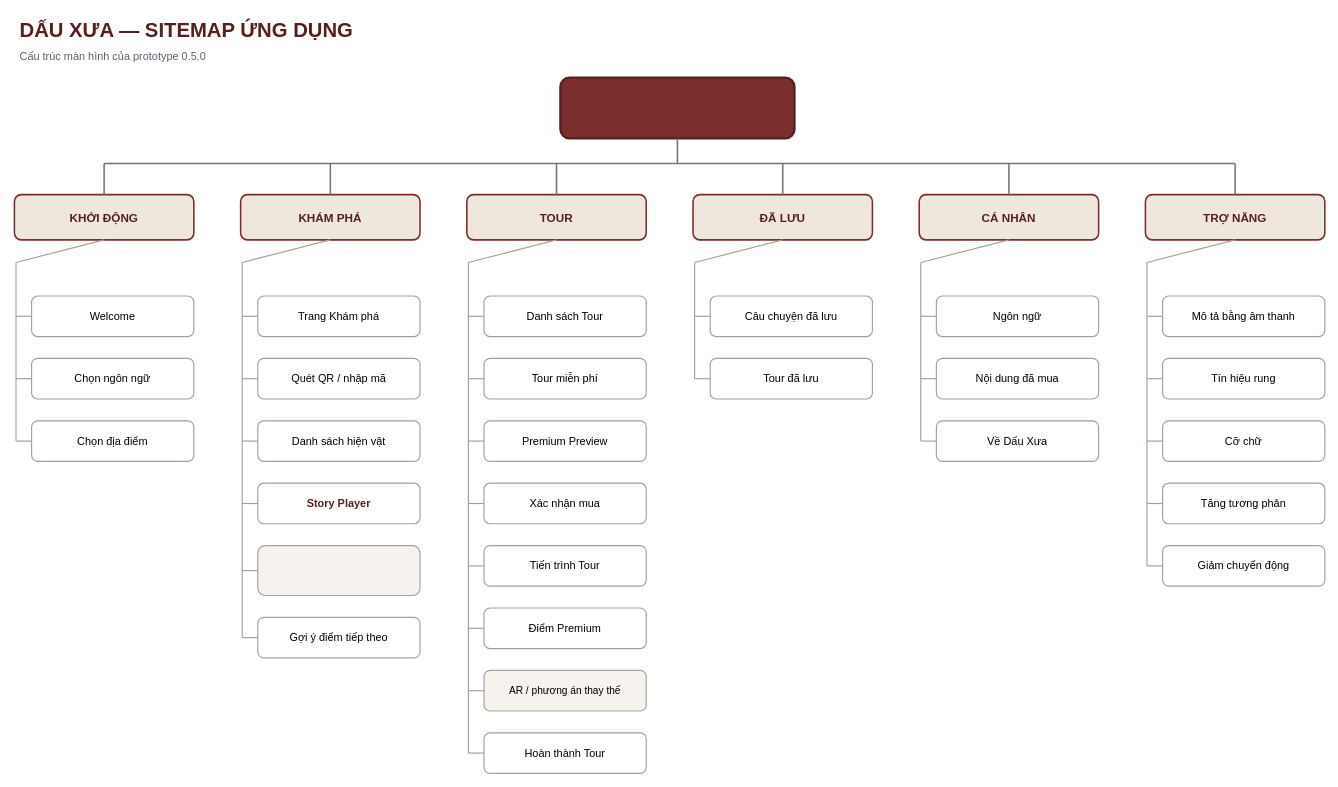
This 1338x787 diagram has some shape labels left out. Here are the shapes that lost their labels. From the top down, the box of each, then its label:
(559, 76, 795, 139): DẤU XƯA Ứng dụng kể chuyện di sản
(257, 545, 420, 596): Câu chuyện · Timeline Bản chép lời · Nguồn
